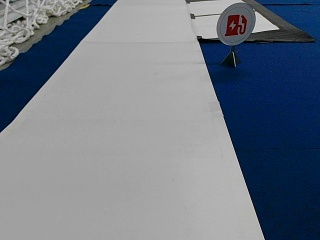battery: (216, 2, 255, 45)
